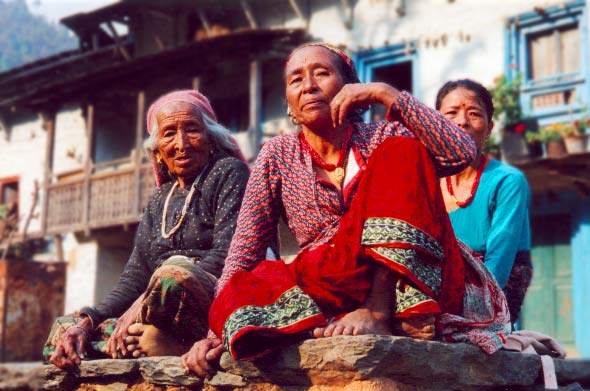human: (172, 33, 478, 381), (49, 80, 250, 363), (432, 69, 543, 344)
